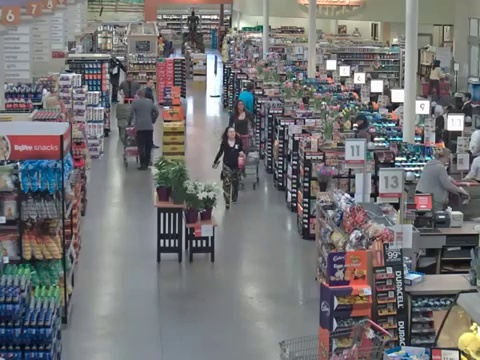face: (226, 128, 236, 139), (238, 101, 245, 110), (148, 80, 155, 88), (127, 73, 133, 81)
